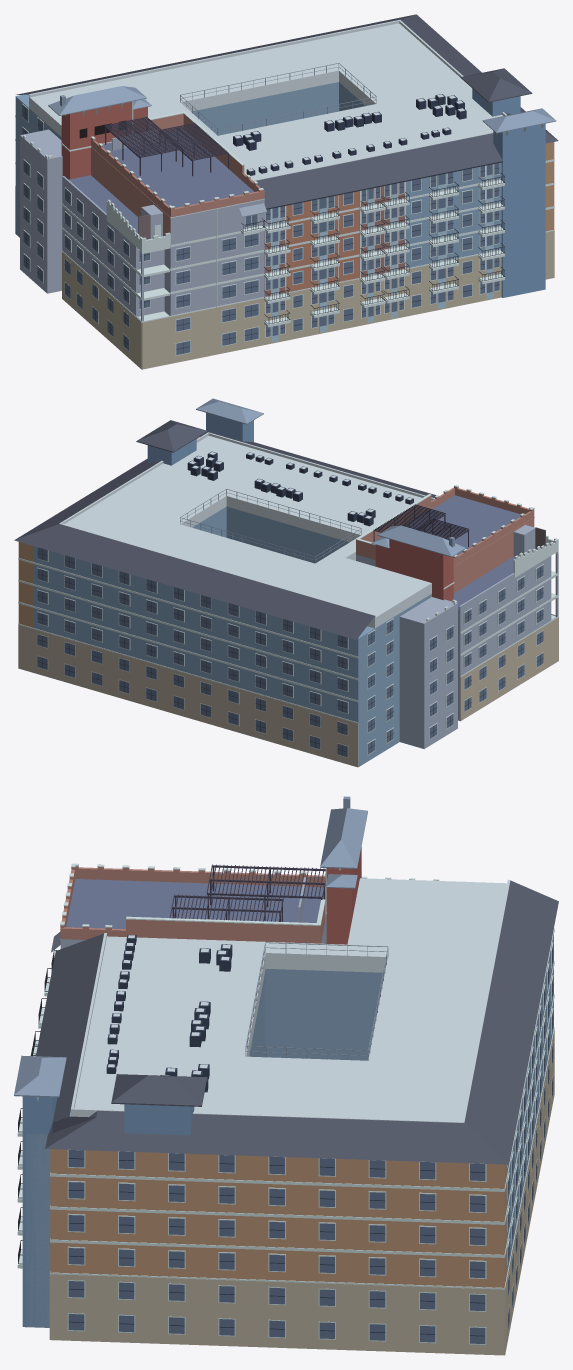
File: 2819-rio-grande-look.glb
3 renders of one model, top to bottom at view 1: azimuth 30°, elevation 25°; view 2: azimuth 150°, elevation 25°; view 3: azimuth 270°, elevation 25°, orthographic. The views are drawn at different scales.
Parts seen in each view (by area): view 1: n_roof_white_membrane, n_trim_white, n_wall_grey_stucco, n_glass_window, n_wall_limestone_base, n_roof_shingle_grey, n_wall_blue_grey, n_wall_tower_blue, n_deck_paving, n_wall_orange_stucco, n_rail_dark_metal, n_wall_wing_orange (+9 smaller); view 2: n_roof_white_membrane, n_wall_blue_grey, n_wall_limestone_base, n_roof_shingle_grey, n_wall_grey_stucco, n_glass_window, n_trim_white, n_wall_orange_stucco, n_deck_paving, n_wall_tower_orange, n_window_mullion_dark, n_roof_metal_seam (+5 smaller); view 3: n_roof_white_membrane, n_wall_tan_siding, n_roof_shingle_grey, n_wall_limestone_base, n_wall_blue_grey, n_trim_white, n_glass_window, n_deck_paving, n_wall_orange_stucco, n_wall_tower_blue, n_roof_metal_seam, n_canopy_dark_metal (+4 smaller).
Part boxes in pixels (x1=…): n_roof_white_membrane: x1=29, y1=20, x2=506, y2=181; n_trim_white: x1=15, y1=101, x2=554, y2=355; n_wall_grey_stucco: x1=20, y1=129, x2=285, y2=321; n_glass_window: x1=22, y1=105, x2=499, y2=354; n_wall_limestone_base: x1=15, y1=187, x2=554, y2=369; n_roof_shingle_grey: x1=16, y1=14, x2=558, y2=208; n_wall_blue_grey: x1=15, y1=82, x2=501, y2=268; n_wall_tower_blue: x1=472, y1=88, x2=545, y2=297; n_deck_paving: x1=69, y1=130, x2=253, y2=233; n_wall_orange_stucco: x1=91, y1=113, x2=264, y2=236; n_rail_dark_metal: x1=241, y1=172, x2=504, y2=324; n_wall_wing_orange: x1=286, y1=191, x2=359, y2=292; n_roof_white_membrane: x1=59, y1=432, x2=434, y2=628; n_wall_blue_grey: x1=34, y1=506, x2=431, y2=766; n_wall_limestone_base: x1=18, y1=617, x2=558, y2=767; n_roof_shingle_grey: x1=14, y1=420, x2=436, y2=639; n_wall_grey_stucco: x1=356, y1=525, x2=558, y2=748; n_glass_window: x1=37, y1=547, x2=543, y2=757; n_trim_white: x1=18, y1=485, x2=558, y2=757; n_wall_orange_stucco: x1=356, y1=486, x2=534, y2=592; n_deck_paving: x1=358, y1=495, x2=520, y2=610; n_wall_tower_orange: x1=375, y1=539, x2=453, y2=601; n_window_mullion_dark: x1=37, y1=549, x2=543, y2=755; n_roof_metal_seam: x1=196, y1=398, x2=465, y2=557; n_roof_white_membrane: x1=70, y1=878, x2=510, y2=1123; n_wall_tan_siding: x1=50, y1=1149, x2=506, y2=1287; n_roof_shingle_grey: x1=36, y1=880, x2=558, y2=1164; n_wall_limestone_base: x1=49, y1=1029, x2=554, y2=1355; n_wall_blue_grey: x1=26, y1=930, x2=553, y2=1327; n_trim_white: x1=17, y1=863, x2=554, y2=1344; n_glass_window: x1=68, y1=944, x2=553, y2=1343; n_deck_paving: x1=66, y1=879, x2=326, y2=929; n_wall_orange_stucco: x1=60, y1=866, x2=325, y2=943; n_wall_tower_blue: x1=22, y1=1096, x2=194, y2=1327; n_roof_metal_seam: x1=14, y1=796, x2=367, y2=1097; n_canopy_dark_metal: x1=169, y1=864, x2=325, y2=921.
Bounding box in the file's own units: 63.58 × 28.05 × 49.83.
